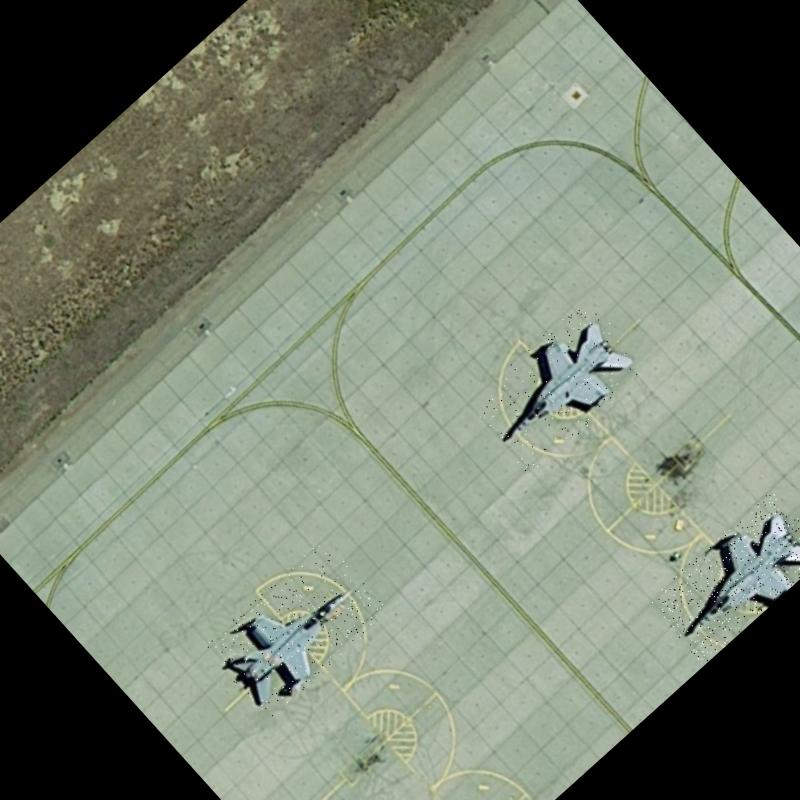A16: (202, 538, 390, 720), (466, 296, 651, 476), (646, 488, 800, 664)
